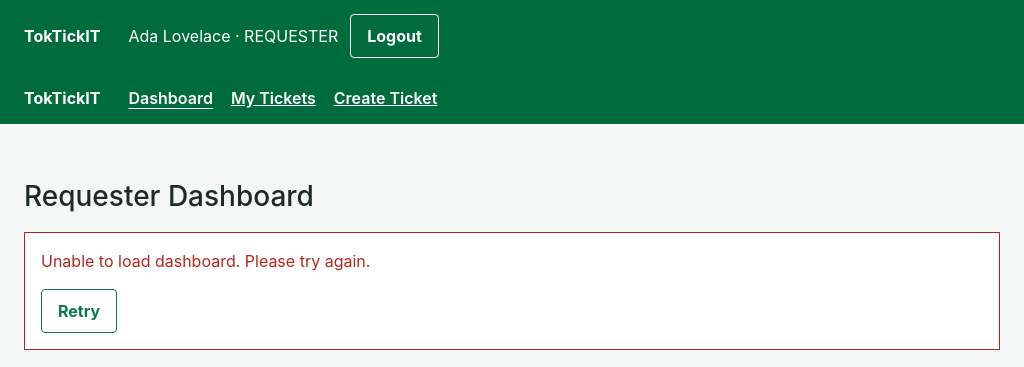
Test: UI-AUTHGATE-02: successful logout transitions to Login › transitions to the Login screen when logout succeeds
Logout succeeds
Step 1. Click the button "Logout" → (394, 36), box [350,14,439,58]
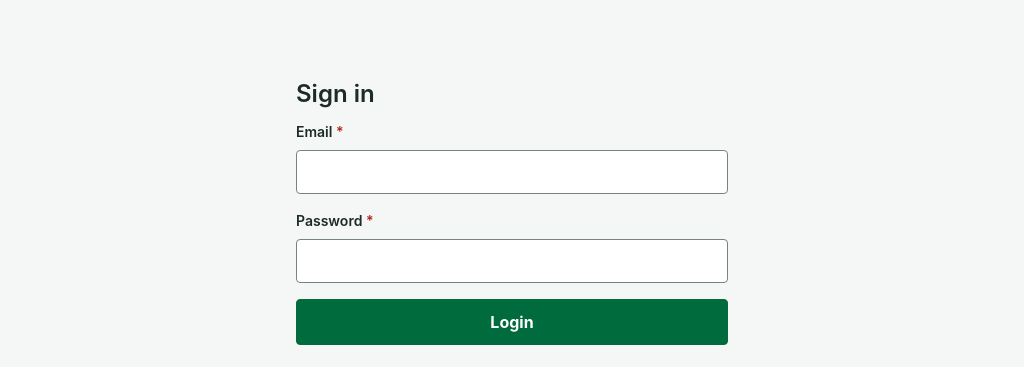
Expected: the field labelled "Email *" is shown, [296,150,728,194]
Expected: the message "Unable to load dashboard. Please try again. Retry" is gone
